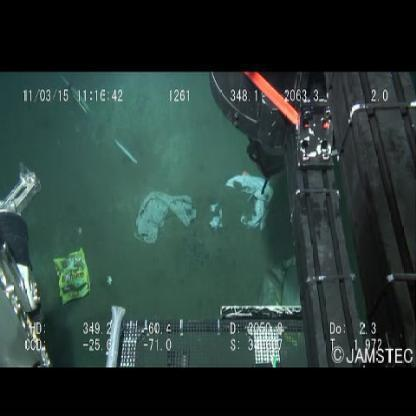Rác: (56, 248, 92, 308)
